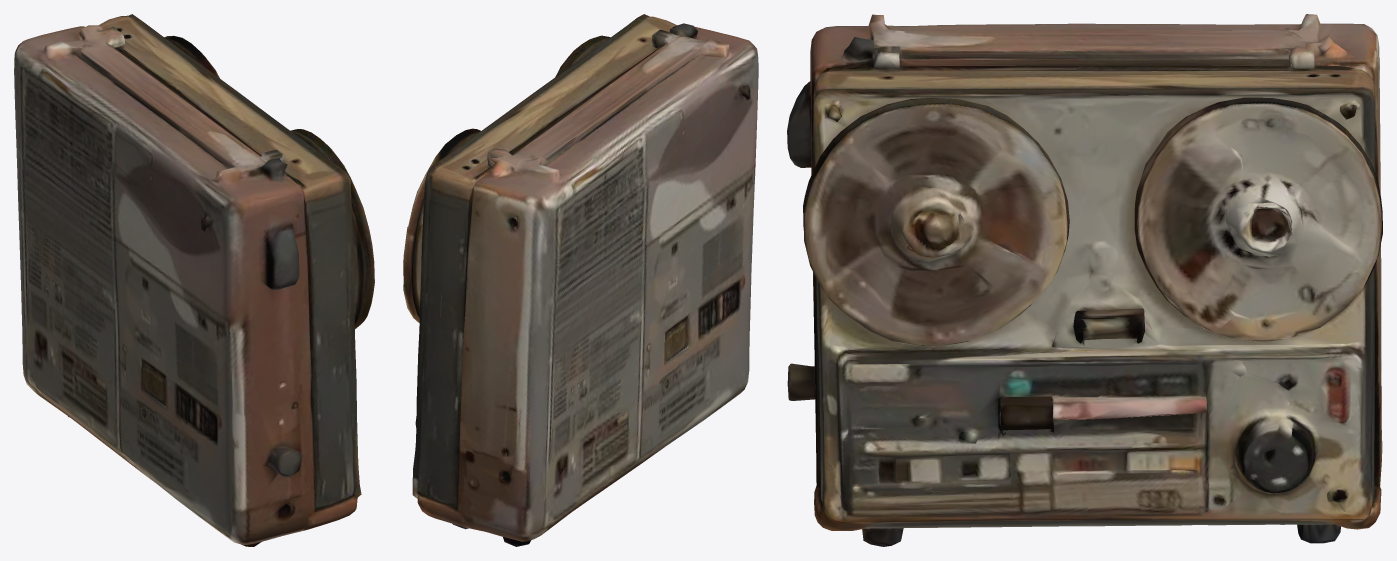
The model's file is de_reeltape.glb.
3 renders of one model, left to right at view 1: azimuth 30°, elevation 25°; view 2: azimuth 150°, elevation 25°; view 3: azimuth 270°, elevation 25°, orthographic. The views are drawn at different scales.
Parts seen in each view (by area): view 1: tripo_node_7b98e10b-8363-4087-8610-0e02f39b3e2f; view 2: tripo_node_7b98e10b-8363-4087-8610-0e02f39b3e2f; view 3: tripo_node_7b98e10b-8363-4087-8610-0e02f39b3e2f.
Part boxes in pixels (x1,y1,x2,y2): tripo_node_7b98e10b-8363-4087-8610-0e02f39b3e2f: [14, 14, 374, 546]; tripo_node_7b98e10b-8363-4087-8610-0e02f39b3e2f: [403, 14, 758, 546]; tripo_node_7b98e10b-8363-4087-8610-0e02f39b3e2f: [787, 14, 1382, 546].
Bounding box in the file's own units: 0.4064 × 0.9045 × 1.
1 material, 1 textured.
